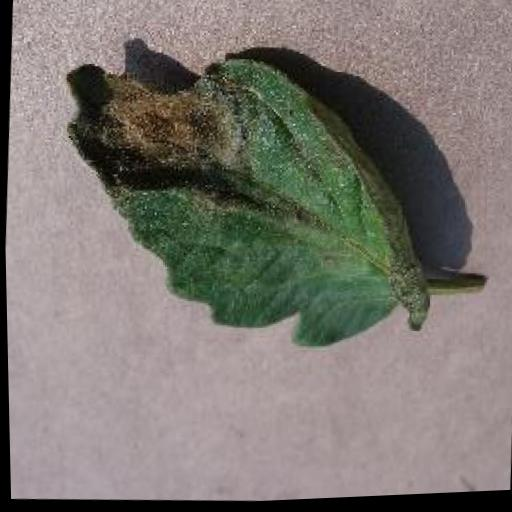Late Blight: (46, 40, 442, 368)
